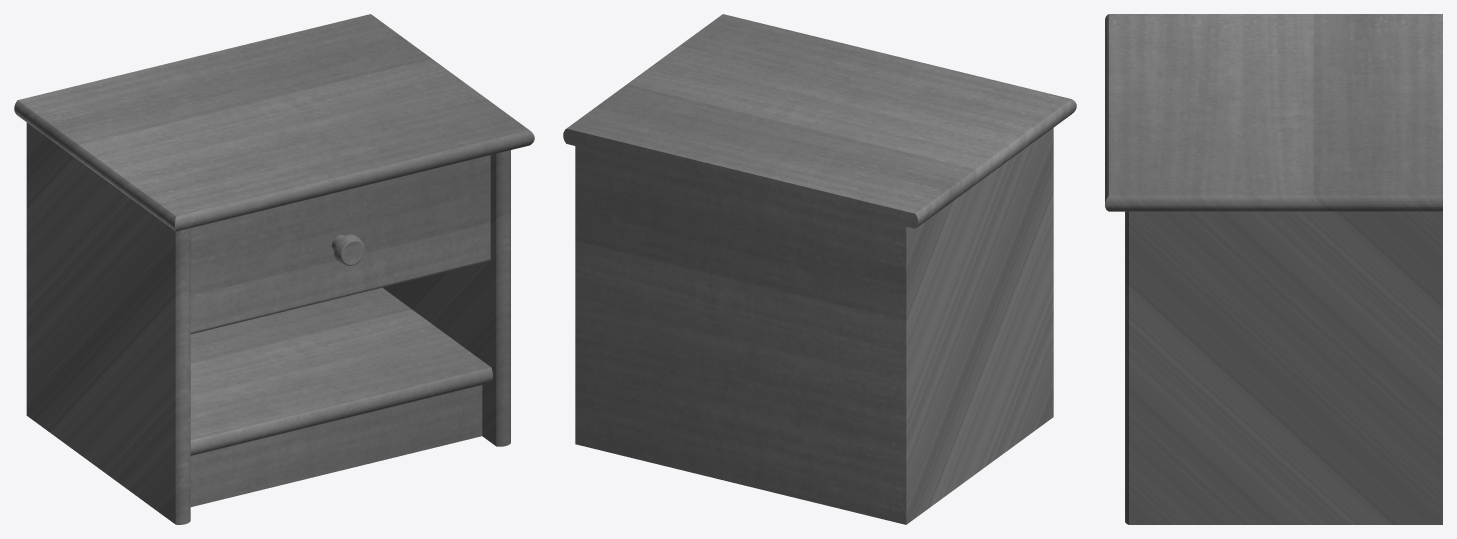
Rendered from Bedside Table B.obj.
3 views of the same model, side by side, from view 1: azimuth 30°, elevation 25°; view 2: azimuth 150°, elevation 25°; view 3: azimuth 270°, elevation 25° (orthographic). The views are drawn at different scales.
Visible parts, largest first — view 1: default_1_1_1; view 2: default_1_1_1; view 3: default_1_1_1.
Boxes of the visible parts, left/top/right/bottom form: default_1_1_1: left=14, top=14, right=534, bottom=524; default_1_1_1: left=563, top=14, right=1076, bottom=524; default_1_1_1: left=1105, top=14, right=1442, bottom=524.
Size of the model in its own units: 44 by 37.1 by 34.
Materials: 1 (1 with a texture image).
